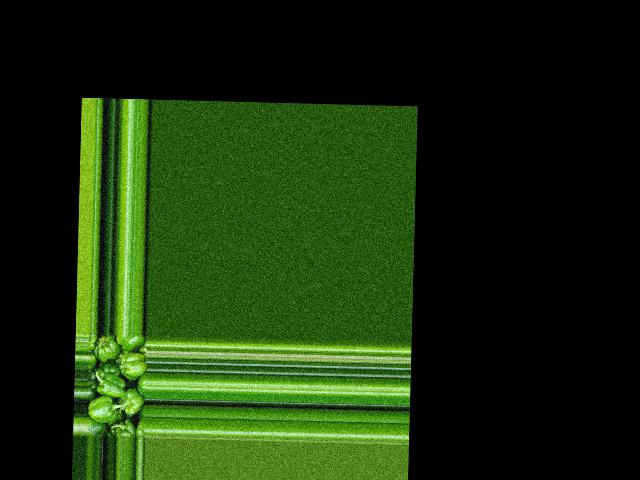bell_pepper: (86, 414, 106, 437)
